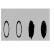correct: (28, 20, 34, 40), (40, 20, 46, 39)
